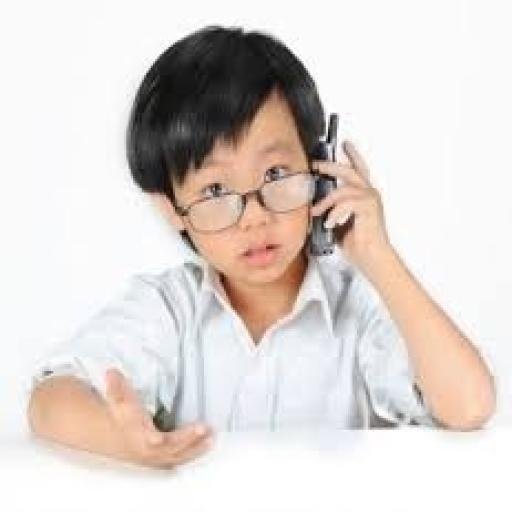calling: (20, 21, 499, 472)
